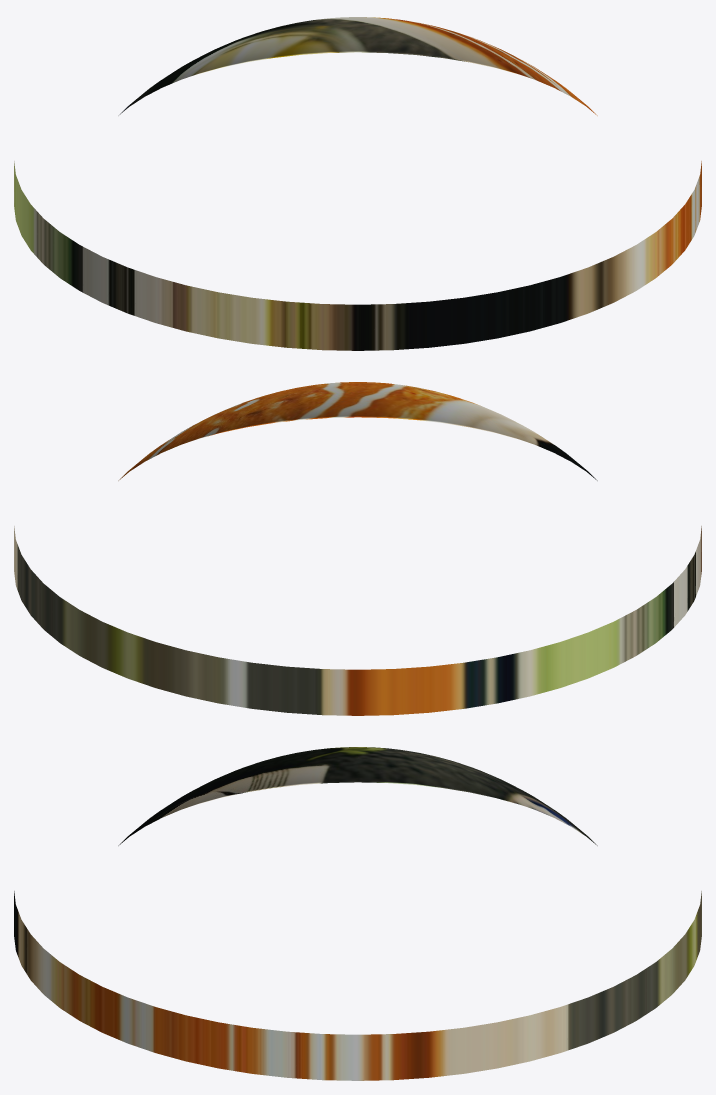
The model's file is dal-makhani.glb.
3 views of the same model, one above another, from view 1: azimuth 30°, elevation 25°; view 2: azimuth 150°, elevation 25°; view 3: azimuth 270°, elevation 25° (orthographic).
Parts seen in each view (by area): view 1: dal-makhani; view 2: dal-makhani; view 3: dal-makhani.
Boxes of the visible parts, box(x1,y1,x2,y2) form: dal-makhani: box(14, 17, 701, 350); dal-makhani: box(14, 382, 701, 715); dal-makhani: box(14, 747, 701, 1080).
Bounding box in the file's own units: 0.27 × 0.069 × 0.27.
Materials: 1 (1 with a texture image).
